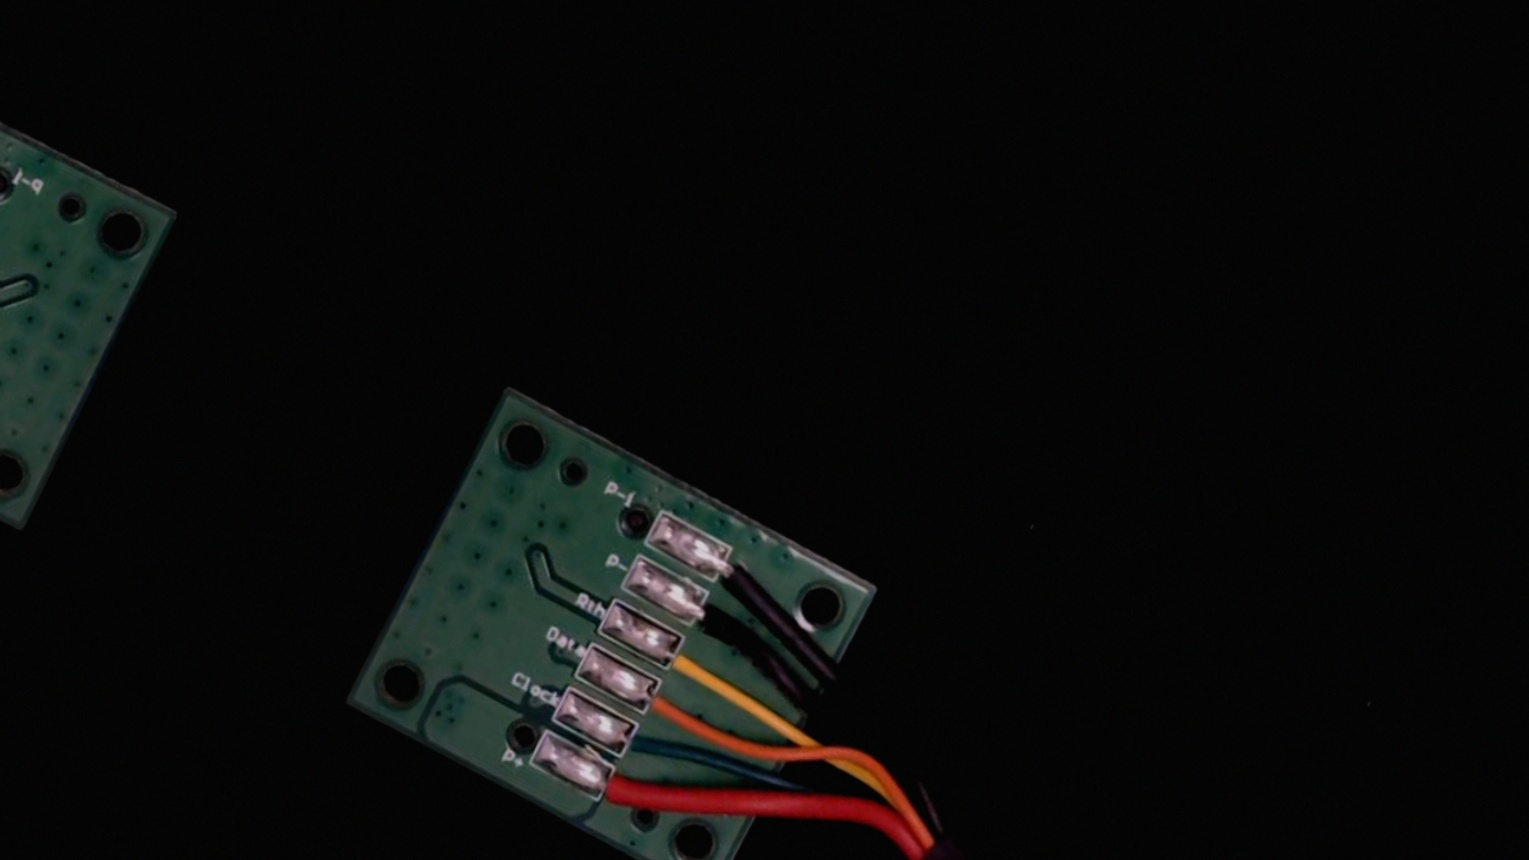Black: (667, 581, 771, 663)
Black1: (690, 531, 786, 609)
Green: (600, 710, 689, 784)
Orange: (619, 668, 709, 743)
Red: (579, 755, 669, 832)
Yellow: (644, 622, 748, 706)
